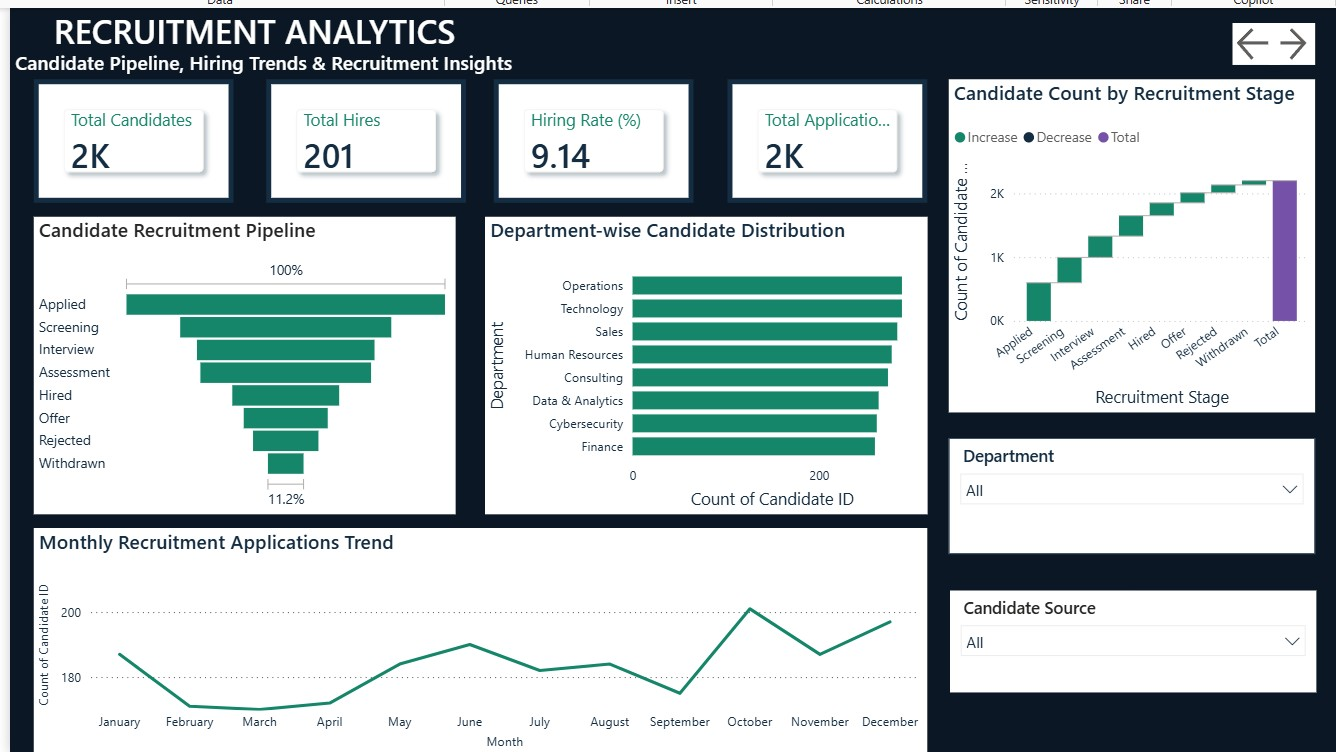

The page's visual inventory and layout, read from the dashboard file:
{"tool":"powerbi","page":{"name":"Recruitment Analytics","canvas":[1280,720],"ordinal":4},"visuals":[{"type":"textbox","title":"RECRUITMENT ANALYTICS","box":[31.9,0,409.7,39.6],"z":0},{"type":"textbox","title":"Candidate Pipeline, Hiring Trends & Recruitment Insights","box":[0,39.6,495.2,29.4],"z":1000},{"type":"cardVisual","fields":{"Data":["Recruitment_Raw.Total Candidates"]},"box":[23,68.9,193,119.4],"z":2000},{"type":"cardVisual","fields":{"Data":["Recruitment_Raw.Hiring Rate (%)"]},"box":[467.1,68.9,193,119.4],"z":3000},{"type":"cardVisual","fields":{"Data":["Recruitment_Raw.Total Hires"]},"box":[247.6,68.9,193,119.4],"z":4000},{"type":"cardVisual","fields":{"Data":["Recruitment_Raw.Total Applications"]},"box":[693,68.9,193,119.4],"z":5000},{"type":"funnel","title":"Candidate Recruitment Pipeline","fields":{"Category":["Recruitment_Raw.Recruitment Stage"],"Y":["Count(Recruitment_Raw.Candidate ID)"]},"box":[23,201.6,407.1,287.1],"z":6000},{"type":"clusteredBarChart","title":"Department-wise Candidate Distribution","fields":{"Y":["Count(Recruitment_Raw.Candidate ID)"],"Category":["Recruitment_Raw.Department"]},"box":[458.1,201.6,427.5,287.1],"z":7000},{"type":"lineChart","title":"Monthly Recruitment Applications Trend","fields":{"Y":["Count(Recruitment_Raw.Candidate ID)"],"Category":["Recruitment_Raw.Applied Date.Variation.Date Hierarchy.Month"]},"box":[23,501.5,862.7,218.2],"z":8000},{"type":"waterfallChart","title":"Candidate Count by Recruitment Stage","fields":{"Category":["Recruitment_Raw.Recruitment Stage"],"Y":["Count(Recruitment_Raw.Candidate ID)"]},"box":[906.1,68.9,353.5,321.6],"z":9000},{"type":"slicer","fields":{"Values":["Recruitment_Raw.Department"]},"box":[906.1,414.8,353.5,112.3],"z":10000},{"type":"slicer","fields":{"Values":["Recruitment_Raw.Candidate Source"]},"box":[907.4,562.8,353.5,98.3],"z":11000},{"type":"actionButton","box":[1214.7,14.5,44.8,40.5],"z":12000},{"type":"actionButton","box":[1180,14.5,46.3,40.5],"z":13000}]}

Visuals, with their boxes in screenshot pixels (x1, y1, x2, y2):
"RECRUITMENT ANALYTICS" textbox: {"x1": 43, "y1": 7, "x2": 465, "y2": 48}
"Candidate Pipeline, Hiring Trends & Recruitment Insights" textbox: {"x1": 10, "y1": 48, "x2": 520, "y2": 78}
cardVisual - Recruitment_Raw.Total Candidates: {"x1": 34, "y1": 78, "x2": 233, "y2": 201}
cardVisual - Recruitment_Raw.Hiring Rate (%): {"x1": 491, "y1": 78, "x2": 690, "y2": 201}
cardVisual - Recruitment_Raw.Total Hires: {"x1": 265, "y1": 78, "x2": 464, "y2": 201}
cardVisual - Recruitment_Raw.Total Applications: {"x1": 724, "y1": 78, "x2": 922, "y2": 201}
"Candidate Recruitment Pipeline" funnel: {"x1": 34, "y1": 214, "x2": 453, "y2": 510}
"Department-wise Candidate Distribution" clusteredBarChart: {"x1": 482, "y1": 214, "x2": 922, "y2": 510}
"Monthly Recruitment Applications Trend" lineChart: {"x1": 34, "y1": 523, "x2": 922, "y2": 748}
"Candidate Count by Recruitment Stage" waterfallChart: {"x1": 943, "y1": 78, "x2": 1307, "y2": 409}
slicer - Recruitment_Raw.Department: {"x1": 943, "y1": 434, "x2": 1307, "y2": 550}
slicer - Recruitment_Raw.Candidate Source: {"x1": 944, "y1": 586, "x2": 1308, "y2": 687}
actionButton: {"x1": 1261, "y1": 22, "x2": 1307, "y2": 64}
actionButton: {"x1": 1225, "y1": 22, "x2": 1273, "y2": 64}
